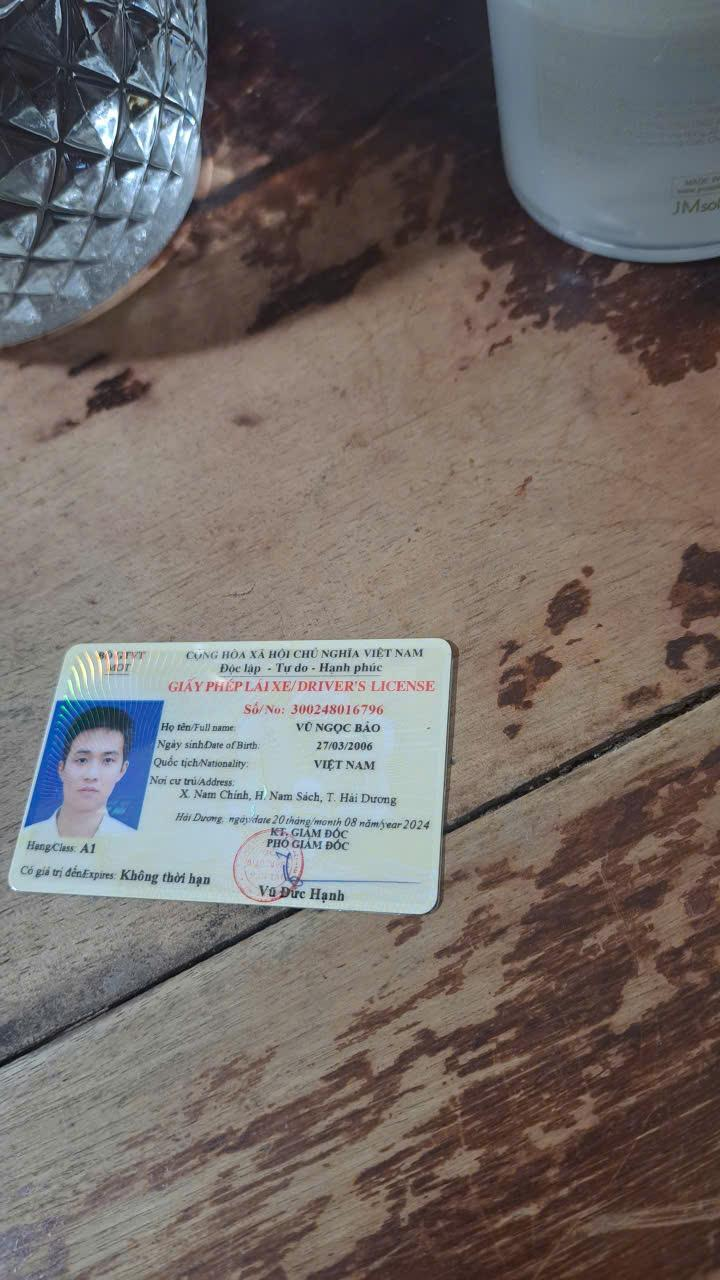gplx: (2, 631, 455, 923)
